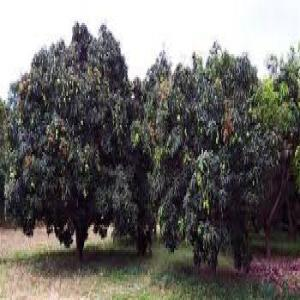Tree: (3, 17, 150, 256), (152, 44, 284, 268)
